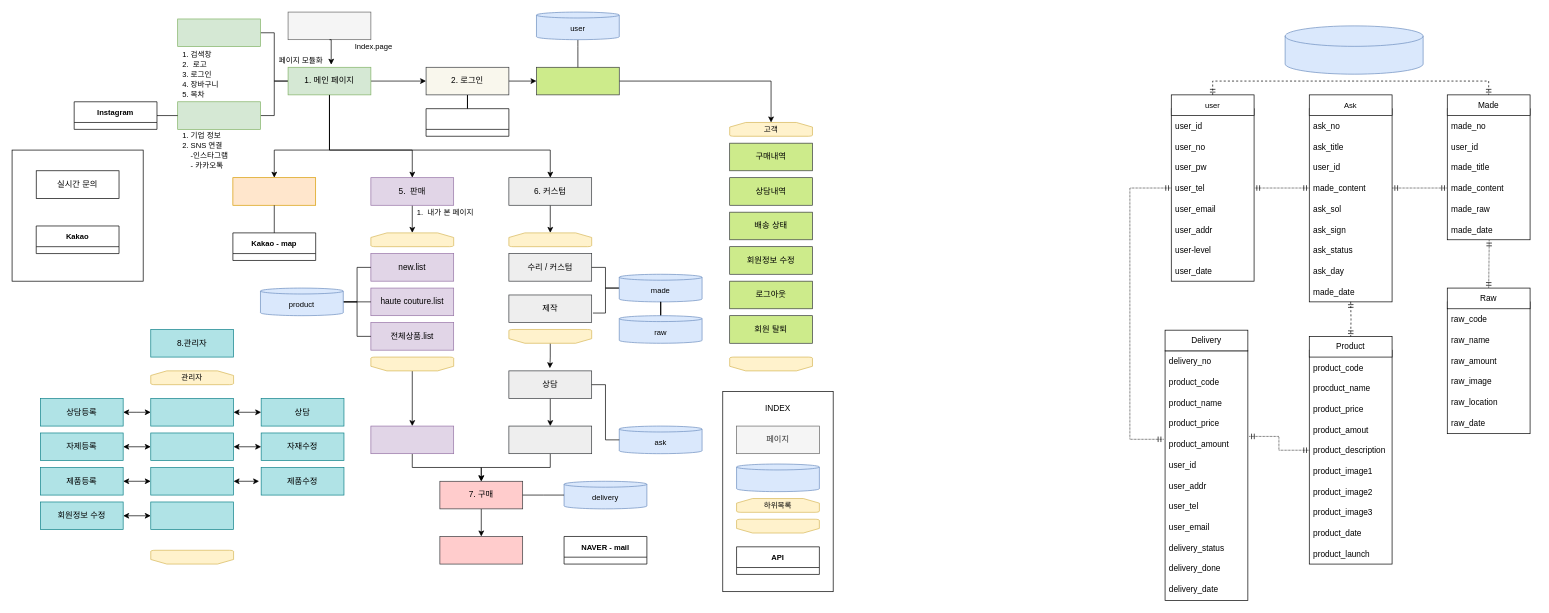
The diagram is 1549 pixels wide and 613 high, and some of its shapes have lost their labels. Here are the shapes that lost their labels. From the top down, the centre of each, then its label:
At point 218,32: "header".
At point 329,25: "0.시작페이지".
At point 1353,49: "CCLLIM".
At point 577,81: "3. 내정보".
At point 218,115: "footer".
At point 467,122: "Kakao - login".
At point 274,191: "4. 기업소개".
At point 192,412: "상담목록".
At point 192,446: "자재목록".
At point 412,439: "Detail".
At point 550,439: "의뢰 확정".
At point 192,481: "제품목록".
At point 777,477: "Database".
At point 192,515: "회원목록".
At point 481,550: "주문처리".
